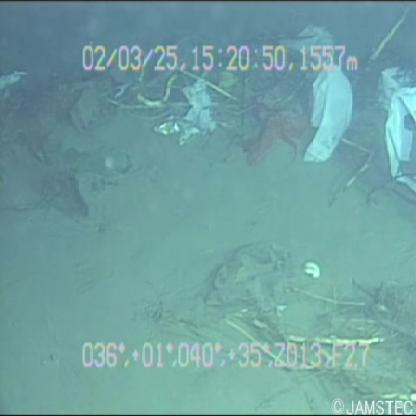Rác: (263, 20, 354, 178), (145, 63, 234, 160), (371, 59, 416, 206)
